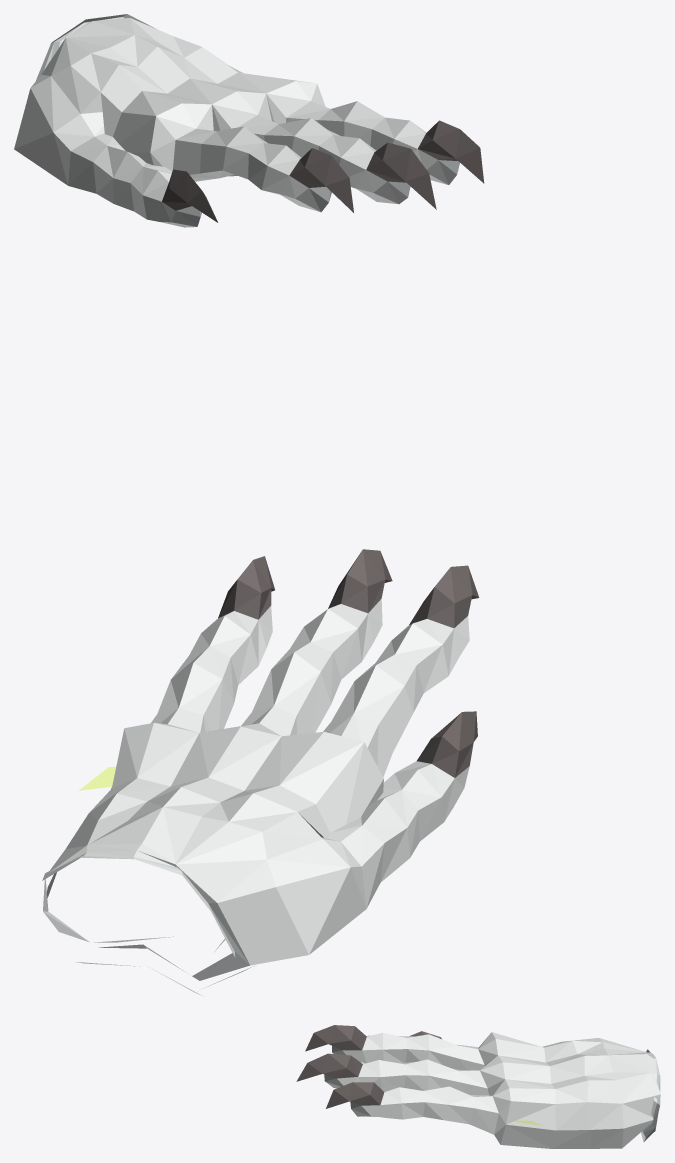
Rendered from olm_right_hand.glb.
The picture shows the model from 3 angles, top to bottom: view 1: azimuth 30°, elevation 25°; view 2: azimuth 150°, elevation 25°; view 3: azimuth 270°, elevation 25°; orthographic projection. The views are drawn at different scales.
Bounding box in the file's own units: 238 × 149 × 814.
Materials: 2 (2 with a texture image).
